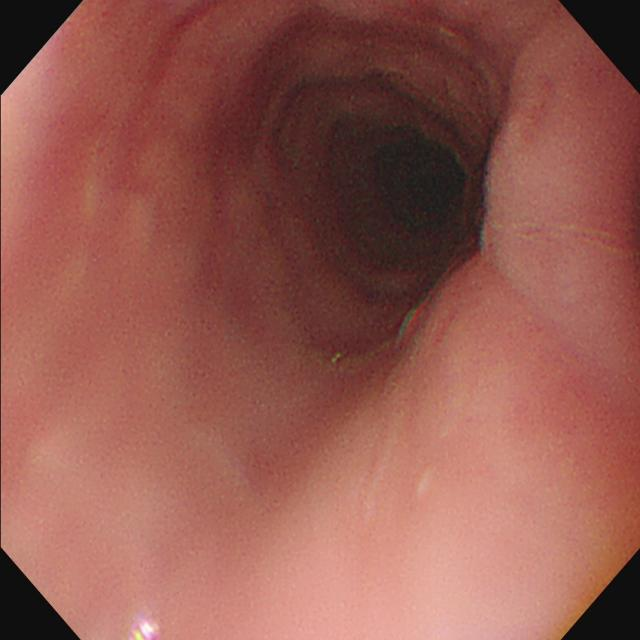E: (280, 69, 479, 281)
